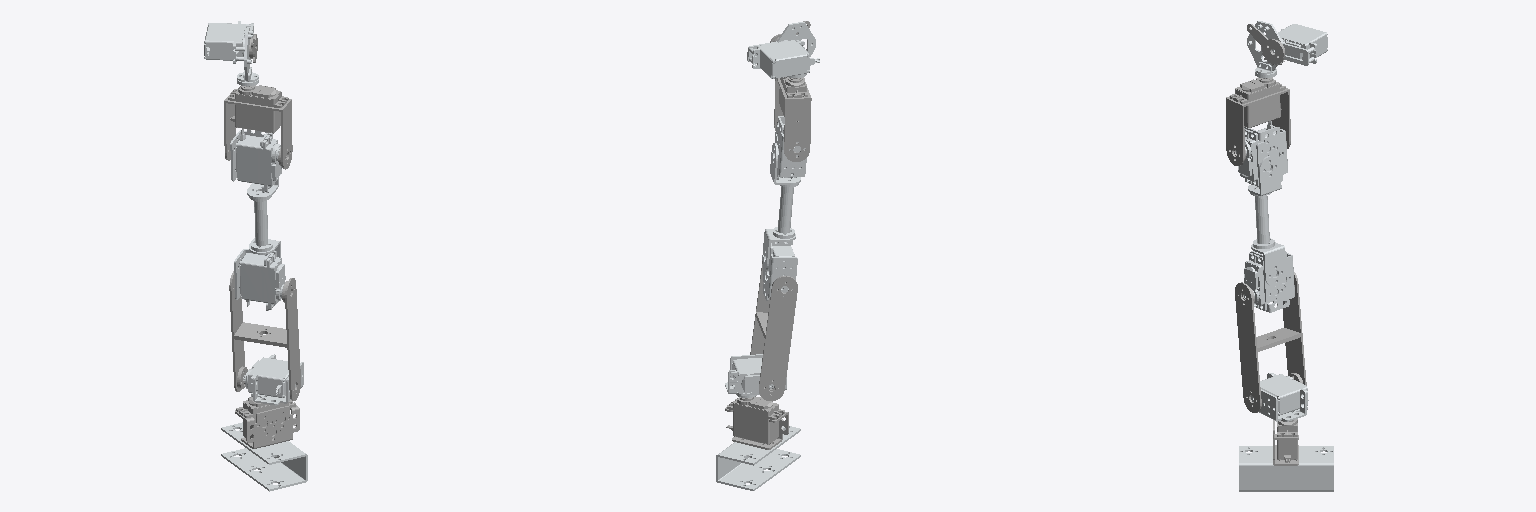
robot.urdf — Manipulator_URDF:
<?xml version="1.0" encoding="utf-8"?>
<!-- This URDF was automatically created by SolidWorks to URDF Exporter! Originally created by [author] ([email redacted]) 
     Commit Version: 1.6.0-4-g7f85cfe  Build Version: 1.6.7995.38578
     For more information, please see http://wiki.ros.org/sw_urdf_exporter -->
<robot
  name="Manipulator_URDF">

  <link name="world"/>

  <joint name="base_joint" type="fixed">
    <parent link="world"/>
    <child link="base_link"/>
    <origin rpy="0 0 0" xyz="0.0 0.0 0.17"/>
  </joint>

  <link
    name="base_link">
    <inertial>
      <origin
        xyz="0.018953 0.04778 0.068135"
        rpy="0 0 0" />
      <mass
        value="0.049053" />
      <inertia
        ixx="4.0047E-05"
        ixy="3.0608E-09"
        ixz="-7.9517E-09"
        iyy="4.1233E-05"
        iyz="-7.4309E-13"
        izz="1.5913E-05" />
    </inertial>
    <visual>
      <origin
        xyz="0 0 0"
        rpy="0 0 0" />
      <geometry>
        <mesh
          filename="package://Manipulator_URDF/meshes/base_link.STL" />
      </geometry>
      <material
        name="">
        <color
          rgba="0.89804 0.91765 0.92941 1" />
      </material>
    </visual>
    <collision>
      <origin
        xyz="0 0 0"
        rpy="0 0 0" />
      <geometry>
        <mesh
          filename="package://Manipulator_URDF/meshes/base_link.STL" />
      </geometry>
    </collision>
  </link>
  <link
    name="link_1">
    <inertial>
      <origin
        xyz="0.026643 0.067463 0.1051"
        rpy="0 0 0" />
      <mass
        value="0.053295" />
      <inertia
        ixx="5.0648E-06"
        ixy="3.7644E-08"
        ixz="3.9559E-09"
        iyy="1.0748E-05"
        iyz="4.0559E-07"
        izz="1.1407E-05" />
    </inertial>
    <visual>
      <origin
        xyz="0 0 0"
        rpy="0 0 0" />
      <geometry>
        <mesh
          filename="package://Manipulator_URDF/meshes/link_1.STL" />
      </geometry>
      <material
        name="">
        <color
          rgba="0.75294 0.75294 0.75294 1" />
      </material>
    </visual>
    <collision>
      <origin
        xyz="0 0 0"
        rpy="0 0 0" />
      <geometry>
        <mesh
          filename="package://Manipulator_URDF/meshes/link_1.STL" />
      </geometry>
    </collision>
  </link>
  <joint
    name="joint1"
    type="fixed">
    <origin
      xyz="0.042922 -0.17059 0.014571"
      rpy="1.5708 0 3.1416" />
    <parent
      link="base_link" />
    <child
      link="link_1" />
    <axis
      xyz="0 0 0" />
  </joint>
  <link
    name="link_2">
    <inertial>
      <origin
        xyz="-0.0093252 0.018744 0.003828"
        rpy="0 0 0" />
      <mass
        value="0.054261" />
      <inertia
        ixx="5.1055E-06"
        ixy="1.889E-08"
        ixz="-2.4669E-07"
        iyy="1.1466E-05"
        iyz="-4.0517E-07"
        izz="1.0768E-05" />
    </inertial>
    <visual>
      <origin
        xyz="0 0 0"
        rpy="0 0 0" />
      <geometry>
        <mesh
          filename="package://Manipulator_URDF/meshes/link_2.STL" />
      </geometry>
      <material
        name="">
        <color
          rgba="0.89804 0.91765 0.92941 1" />
      </material>
    </visual>
    <collision>
      <origin
        xyz="0 0 0"
        rpy="0 0 0" />
      <geometry>
        <mesh
          filename="package://Manipulator_URDF/meshes/link_2.STL" />
      </geometry>
    </collision>
  </link>
  <joint
    name="joint2"
    type="revolute">
    <origin
      xyz="0.016587 0.095557 0.10355"
      rpy="3.1416 -0.72673 3.1416" />
    <parent
      link="link_1" />
    <child
      link="link_2" />
    <axis
      xyz="0 1 0" />
    <limit
      lower="-1.57"
      upper="1.57"
      effort="200"
      velocity="3" />
  </joint>
  <link
    name="link_3">
    <inertial>
      <origin
        xyz="-0.0020031 0.05096 -0.0005529"
        rpy="0 0 0" />
      <mass
        value="0.047833" />
      <inertia
        ixx="4.6499E-05"
        ixy="6.4595E-07"
        ixz="9.3024E-07"
        iyy="3.0269E-05"
        iyz="2.3804E-08"
        izz="2.1291E-05" />
    </inertial>
    <visual>
      <origin
        xyz="0 0 0"
        rpy="0 0 0" />
      <geometry>
        <mesh
          filename="package://Manipulator_URDF/meshes/link_3.STL" />
      </geometry>
      <material
        name="">
        <color
          rgba="0.75294 0.75294 0.75294 1" />
      </material>
    </visual>
    <collision>
      <origin
        xyz="0 0 0"
        rpy="0 0 0" />
      <geometry>
        <mesh
          filename="package://Manipulator_URDF/meshes/link_3.STL" />
      </geometry>
    </collision>
  </link>
  <joint
    name="joint3"
    type="revolute">
    <origin
      xyz="-0.019387 0.0175 -0.00071444"
      rpy="-0.0029846 0.00012106 0.081078" />
    <parent
      link="link_2" />
    <child
      link="link_3" />
    <axis
      xyz="0.036827 0 -0.99932" />
    <limit
      lower="-1.57"
      upper="1.57"
      effort="150"
      velocity="3" />
  </joint>
  <link
    name="link_4">
    <inertial>
      <origin
        xyz="0.0041588 0.077415 -0.0030401"
        rpy="0 0 0" />
      <mass
        value="0.11939" />
      <inertia
        ixx="2.6992E-05"
        ixy="-5.5078E-07"
        ixz="-7.5265E-07"
        iyy="1.1445E-05"
        iyz="1.0514E-08"
        izz="2.5362E-05" />
    </inertial>
    <visual>
      <origin
        xyz="0 0 0"
        rpy="0 0 0" />
      <geometry>
        <mesh
          filename="package://Manipulator_URDF/meshes/link_4.STL" />
      </geometry>
      <material
        name="">
        <color
          rgba="0.89804 0.91765 0.92941 1" />
      </material>
    </visual>
    <collision>
      <origin
        xyz="0 0 0"
        rpy="0 0 0" />
      <geometry>
        <mesh
          filename="package://Manipulator_URDF/meshes/link_4.STL" />
      </geometry>
    </collision>
  </link>
  <joint
    name="joint4"
    type="revolute">
    <origin
      xyz="-0.0040415 0.10192 -0.00014894"
      rpy="-0.0013244 2.3807E-05 0.035947" />
    <parent
      link="link_3" />
    <child
      link="link_4" />
    <axis
      xyz="0.036827 0 -0.99932" />
    <limit
      lower="-1.57"
      upper="1.57"
      effort="100"
      velocity="3" />
    <!-- <mimic
      joint="joint2"
      multiplier="1"
      offset="0" /> -->
  </joint>
  <link
    name="link_5">
    <inertial>
      <origin
        xyz="0.0029647 0.03703 2.0924E-06"
        rpy="0 0 0" />
      <mass
        value="0.050955" />
      <inertia
        ixx="2.6187E-05"
        ixy="-4.8287E-07"
        ixz="5.8904E-07"
        iyy="2.0198E-05"
        iyz="2.1584E-08"
        izz="1.031E-05" />
    </inertial>
    <visual>
      <origin
        xyz="0 0 0"
        rpy="0 0 0" />
      <geometry>
        <mesh
          filename="package://Manipulator_URDF/meshes/link_5.STL" />
      </geometry>
      <material
        name="">
        <color
          rgba="0.75294 0.75294 0.75294 1" />
      </material>
    </visual>
    <collision>
      <origin
        xyz="0 0 0"
        rpy="0 0 0" />
      <geometry>
        <mesh
          filename="package://Manipulator_URDF/meshes/link_5.STL" />
      </geometry>
    </collision>
  </link>
  <joint
    name="joint5"
    type="revolute">
    <origin
      xyz="0.0052034 0.14577 0.00019176"
      rpy="0.00059508 0 -0.016149" />
    <parent
      link="link_4" />
    <child
      link="link_5" />
    <axis
      xyz="0.036827 0 -0.99932" />
    <limit
      lower="-1.57"
      upper="1.57"
      effort="80"
      velocity="3" />
  </joint>
  <link
    name="link_6">
    <inertial>
      <origin
        xyz="0.0029085 0.030963 0.027631"
        rpy="0 0 0" />
      <mass
        value="0.036481" />
      <inertia
        ixx="5.1526E-06"
        ixy="8.4505E-08"
        ixz="2.4174E-06"
        iyy="6.3867E-06"
        iyz="-1.7952E-07"
        izz="4.2754E-06" />
    </inertial>
    <visual>
      <origin
        xyz="0 0 0"
        rpy="0 0 0" />
      <geometry>
        <mesh
          filename="package://Manipulator_URDF/meshes/link_6.STL" />
      </geometry>
      <material
        name="">
        <color
          rgba="0.89804 0.91765 0.92941 1" />
      </material>
    </visual>
    <collision>
      <origin
        xyz="0 0 0"
        rpy="0 0 0" />
      <geometry>
        <mesh
          filename="package://Manipulator_URDF/meshes/link_6.STL" />
      </geometry>
    </collision>
  </link>
  <joint
    name="joint6"
    type="revolute">
    <origin
      xyz="0.0056933 0.066372 -0.010197"
      rpy="3.0762 0.63346 2.9605" />
    <parent
      link="link_5" />
    <child
      link="link_6" />
    <axis
      xyz="0.079753 0.99681 0.002939" />
    <limit
      lower="-1.57"
      upper="1.57"
      effort="50"
      velocity="3" />
  </joint>
  <link
    name="link_7">
    <inertial>
      <origin
        xyz="-0.0045079 0.0038712 -0.0014506"
        rpy="0 0 0" />
      <mass
        value="0.0023389" />
      <inertia
        ixx="2.7138E-07"
        ixy="3.9294E-08"
        ixz="5.8021E-08"
        iyy="1.2298E-07"
        iyz="-6.3983E-08"
        izz="2.4532E-07" />
    </inertial>
    <visual>
      <origin
        xyz="0 0 0"
        rpy="0 0 0" />
      <geometry>
        <mesh
          filename="package://Manipulator_URDF/meshes/link_7.STL" />
      </geometry>
      <material
        name="">
        <color
          rgba="0.75294 0.75294 0.75294 1" />
      </material>
    </visual>
    <collision>
      <origin
        xyz="0 0 0"
        rpy="0 0 0" />
      <geometry>
        <mesh
          filename="package://Manipulator_URDF/meshes/link_7.STL" />
      </geometry>
    </collision>
  </link>
  <joint
    name="joint7"
    type="revolute">
    <origin
      xyz="-0.0062233 0.032836 0.010313"
      rpy="-1.0659 -0.43408 -0.88021" />
    <parent
      link="link_6" />
    <child
      link="link_7" />
    <axis
      xyz="0.75436 -0.062282 0.6535" />
    <limit
      lower="-1.57"
      upper="1.57"
      effort="50"
      velocity="3" />
  </joint>
<!--  <link
    name="link_End">
    <inertial>
      <origin
        xyz="-0.0062734 0.50916 0.10978"
        rpy="0 0 0" />
      <mass
        value="0.0029678" />
      <inertia
        ixx="8.7553E-07"
        ixy="-1.6854E-07"
        ixz="3.7411E-08"
        iyy="8.3038E-08"
        iyz="1.146E-07"
        izz="8.8959E-07" />
    </inertial>
    <visual>
      <origin
        xyz="0 0 0"
        rpy="0 0 0" />
      <geometry>
        <mesh
          filename="package://Manipulator_URDF/meshes/link_End.STL" />
      </geometry>
      <material
        name="">
        <color
          rgba="0.89804 0.91765 0.92941 1" />
      </material>
    </visual>
    <collision>
      <origin
        xyz="0 0 0"
        rpy="0 0 0" />
      <geometry>
        <mesh
          filename="package://Manipulator_URDF/meshes/link_End.STL" />
      </geometry>
    </collision>
  </link>
  <joint
    name="jointEnd"
    type="floating">
    <origin
      xyz="0.29055 0.044276 -0.38783"
      rpy="0.94013 -0.49562 0.75936" />
    <parent
      link="link_7" />
    <child
      link="link_End" />
    <axis
      xyz="0 0 0" />
  </joint>
   <link
    name="link_7_2">
    <inertial>
      <origin
        xyz="0.0031121 -0.014499 -0.0079965"
        rpy="0 0 0" />
      <mass
        value="0.0003125" />
      <inertia
        ixx="3.58E-08"
        ixy="9.2234E-09"
        ixz="4.2656E-09"
        iyy="9.3477E-09"
        iyz="-1.3448E-08"
        izz="3.2528E-08" />
    </inertial>
    <visual>
      <origin
        xyz="0 0 0"
        rpy="0 0 0" />
      <geometry>
        <mesh
          filename="package://Manipulator_URDF/meshes/link_7_2.STL" />
      </geometry>
      <material
        name="">
        <color
          rgba="0.75294 0.75294 0.75294 1" />
      </material>
    </visual>
    <collision>
      <origin
        xyz="0 0 0"
        rpy="0 0 0" />
      <geometry>
        <mesh
          filename="package://Manipulator_URDF/meshes/link_7_2.STL" />
      </geometry>
    </collision>
  </link>
  <joint
    name="joint7_2"
    type="continuous">
    <origin
      xyz="0.0015619 0.052298 0.0031813"
      rpy="1.0457 -0.60353 0.82564" />
    <parent
      link="link_6" />
    <child
      link="link_7_2" />
    <axis
      xyz="0.75436 -0.062282 0.6535" />
    <limit
      lower="-1.57"
      upper="0"
      effort="0"
      velocity="0" />
  </joint>
  <link
    name="link_End_2">
    <inertial>
      <origin
        xyz="-0.00627338291742126 0.509155967160998 0.109782863971423"
        rpy="0 0 0" />
      <mass
        value="0.00296780654025875" />
      <inertia
        ixx="8.75530948162945E-07"
        ixy="-1.68535998316117E-07"
        ixz="3.7411174170203E-08"
        iyy="8.30383875085134E-08"
        iyz="1.14604664997385E-07"
        izz="8.89591952373185E-07" />
    </inertial>
    <visual>
      <origin
        xyz="0 0 0"
        rpy="0 0 0" />
      <geometry>
        <mesh
          filename="package://Manipulator_URDF/meshes/link_End_2.STL" />
      </geometry>
      <material
        name="">
        <color
          rgba="0.752941176470588 0.752941176470588 0.752941176470588 1" />
      </material>
    </visual>
    <collision>
      <origin
        xyz="0 0 0"
        rpy="0 0 0" />
      <geometry>
        <mesh
          filename="package://Manipulator_URDF/meshes/link_End_2.STL" />
      </geometry>
    </collision>
  </link>
  <joint
    name="jointEnd_2"
    type="floating">
    <origin
      xyz="-0.35851 -0.026569 0.35465"
      rpy="-1.1727 -0.53818 -0.95177" />
    <parent
      link="link_7_2" />
    <child
      link="link_End_2" />
    <axis
      xyz="0 0 0" />
  </joint> -->

  <!-- <transmission name="link_1_trans">
    <type>transmission_interface/SimpleTransmission</type>
    <joint name="joint1">
      <hardwareInterface>hardware_interface/PositionJointInterface</hardwareInterface>
    </joint>
    <actuator name="link_1_motor">
      <hardwareInterface>hardware_interface/PositionJointInterface</hardwareInterface>
      <mechanicalReduction>1</mechanicalReduction>
    </actuator>
  </transmission> -->

  <transmission name="link_2_trans">
    <type>transmission_interface/SimpleTransmission</type>
    <joint name="joint2">
      <hardwareInterface>hardware_interface/PositionJointInterface</hardwareInterface>
    </joint>
    <actuator name="link_2_motor">
      <hardwareInterface>hardware_interface/PositionJointInterface</hardwareInterface>
      <mechanicalReduction>1</mechanicalReduction>
    </actuator>
  </transmission>

  <transmission name="link_3_trans">
    <type>transmission_interface/SimpleTransmission</type>
    <joint name="joint3">
      <hardwareInterface>hardware_interface/PositionJointInterface</hardwareInterface>
    </joint>
    <actuator name="link_3_motor">
      <hardwareInterface>hardware_interface/PositionJointInterface</hardwareInterface>
      <mechanicalReduction>1</mechanicalReduction>
    </actuator>
  </transmission>

  <transmission name="link_4_trans">
    <type>transmission_interface/SimpleTransmission</type>
    <joint name="joint4">
      <hardwareInterface>hardware_interface/PositionJointInterface</hardwareInterface>
    </joint>
    <actuator name="link_4_motor">
      <hardwareInterface>hardware_interface/PositionJointInterface</hardwareInterface>
      <mechanicalReduction>1</mechanicalReduction>
    </actuator>
  </transmission>

  <transmission name="link_5_trans">
    <type>transmission_interface/SimpleTransmission</type>
    <joint name="joint5">
      <hardwareInterface>hardware_interface/PositionJointInterface</hardwareInterface>
    </joint>
    <actuator name="link_5_motor">
      <hardwareInterface>hardware_interface/PositionJointInterface</hardwareInterface>
      <mechanicalReduction>1</mechanicalReduction>
    </actuator>
  </transmission>

  <transmission name="link_6_trans">
    <type>transmission_interface/SimpleTransmission</type>
    <joint name="joint6">
      <hardwareInterface>hardware_interface/PositionJointInterface</hardwareInterface>
    </joint>
    <actuator name="link_6_motor">
      <hardwareInterface>hardware_interface/PositionJointInterface</hardwareInterface>
      <mechanicalReduction>1</mechanicalReduction>
    </actuator>
  </transmission>

  <transmission name="link_7_trans">
    <type>transmission_interface/SimpleTransmission</type>
    <joint name="joint7">
      <hardwareInterface>hardware_interface/PositionJointInterface</hardwareInterface>
    </joint>
    <actuator name="link_7_motor">
      <hardwareInterface>hardware_interface/PositionJointInterface</hardwareInterface>
      <mechanicalReduction>1</mechanicalReduction>
    </actuator>
  </transmission>

  <gazebo>
    <plugin name="gazebo_ros_control" filename="libgazebo_ros_control.so">
      <robotNamespace>/</robotNamespace>
    </plugin>
  </gazebo>

  <gazebo reference="link_1">
    <selfCollide>true</selfCollide>
  </gazebo>
  <gazebo reference="link_2">
    <selfCollide>true</selfCollide>
  </gazebo>
  <gazebo reference="link_3">
    <selfCollide>true</selfCollide>
  </gazebo>
  <gazebo reference="link_4">
    <selfCollide>true</selfCollide>
  </gazebo>
  <gazebo reference="link_5">
    <selfCollide>true</selfCollide>
  </gazebo>
  <gazebo reference="link_6">
    <selfCollide>true</selfCollide>
  </gazebo>
  <gazebo reference="link_7">
    <selfCollide>true</selfCollide>
  </gazebo>
  <!-- <gazebo reference="link_7_2">
    <selfCollide>true</selfCollide>
  </gazebo>
  <gazebo reference="link_End_2">
    <selfCollide>true</selfCollide>
  </gazebo> -->

</robot>

--- Render facts (derived) ---
Views: 3 orthographic renders of the robot side by side, from view 1: azimuth 30°, elevation 25°; view 2: azimuth 150°, elevation 25°; view 3: azimuth 270°, elevation 25°.
Robot: Manipulator_URDF — 9 links, 8 joints (6 revolute, 2 fixed); root link world; default pose: all joints at 0.
Links seen in each view (by area): view 1: link_4, link_3, link_5, base_link, link_1, link_6, link_2; view 2: link_3, link_4, base_link, link_6, link_1, link_5, link_2; view 3: link_4, link_3, base_link, link_5, link_6, link_2, link_1, link_7.
Link boxes in pixels (bbox=[...]): link_4: bbox=[230, 129, 285, 310]; link_3: bbox=[229, 271, 300, 400]; link_5: bbox=[224, 85, 292, 169]; base_link: bbox=[221, 422, 307, 491]; link_1: bbox=[235, 397, 299, 448]; link_6: bbox=[204, 21, 258, 86]; link_2: bbox=[243, 354, 303, 405]; link_3: bbox=[750, 261, 797, 400]; link_4: bbox=[762, 116, 806, 300]; base_link: bbox=[716, 426, 800, 490]; link_6: bbox=[747, 22, 819, 78]; link_1: bbox=[725, 396, 788, 449]; link_5: bbox=[774, 77, 811, 161]; link_2: bbox=[725, 354, 786, 397]; link_4: bbox=[1236, 121, 1294, 312]; link_3: bbox=[1235, 272, 1306, 412]; base_link: bbox=[1239, 446, 1333, 491]; link_5: bbox=[1226, 77, 1290, 165]; link_6: bbox=[1247, 21, 1327, 77]; link_2: bbox=[1251, 373, 1308, 421]; link_1: bbox=[1273, 419, 1298, 465]; link_7: bbox=[1247, 24, 1284, 65].
Bounding box of the posed robot: 0.1009 × 0.1023 × 0.464 m (x, y, z).
Meshes: 8 distinct files referenced, 8 mesh visuals loaded (8 binary STL).